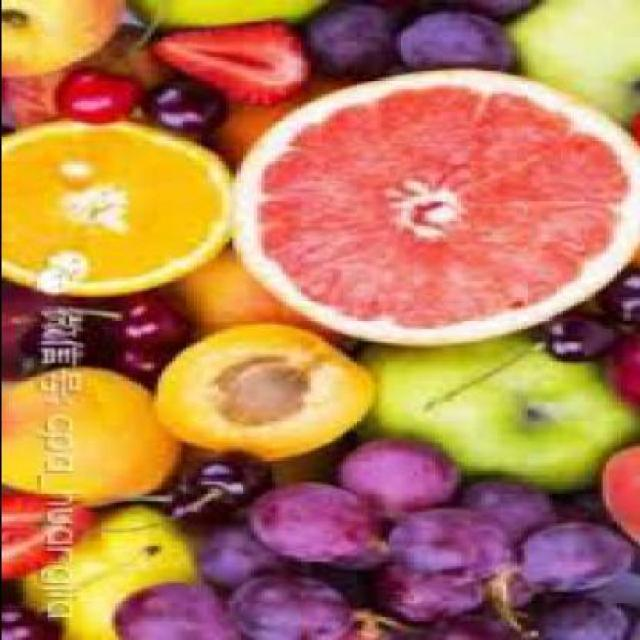BIODEGRADABLE: (234, 65, 638, 348), (356, 327, 638, 496), (3, 114, 235, 295), (145, 321, 384, 459), (4, 500, 191, 638), (3, 366, 185, 503), (167, 242, 362, 352), (4, 23, 178, 128), (508, 0, 638, 125), (210, 76, 370, 170), (153, 19, 313, 104), (252, 478, 385, 564), (342, 437, 462, 517), (3, 0, 131, 75), (391, 505, 515, 581), (86, 290, 202, 370), (4, 290, 107, 379), (224, 572, 351, 638), (4, 494, 96, 578), (519, 522, 636, 588), (110, 580, 242, 638), (310, 2, 412, 76), (199, 520, 313, 586), (120, 0, 332, 31), (185, 448, 288, 510), (402, 12, 516, 68), (228, 357, 317, 423), (469, 473, 551, 542), (377, 572, 494, 618), (146, 76, 232, 132), (526, 592, 629, 638), (64, 65, 142, 123), (600, 443, 638, 549), (541, 311, 622, 358), (408, 0, 541, 23), (604, 326, 638, 412), (3, 596, 65, 638), (597, 268, 638, 328), (437, 610, 515, 638), (501, 572, 537, 608)
